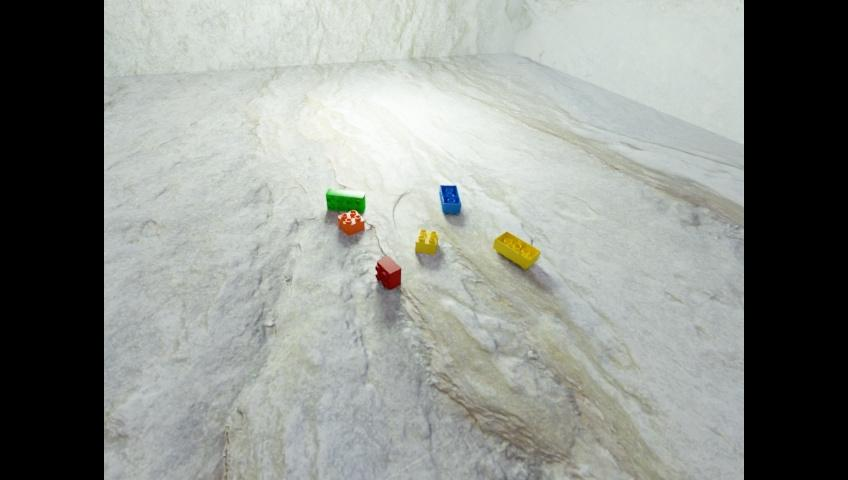2x2_orange: (337, 209, 364, 235)
2x2_red: (375, 255, 400, 289)
2x2_yellow: (414, 228, 438, 254)
4x2_blue: (439, 184, 460, 214)
4x2_green: (325, 188, 365, 212)
4x2_yellow: (492, 230, 539, 268)
